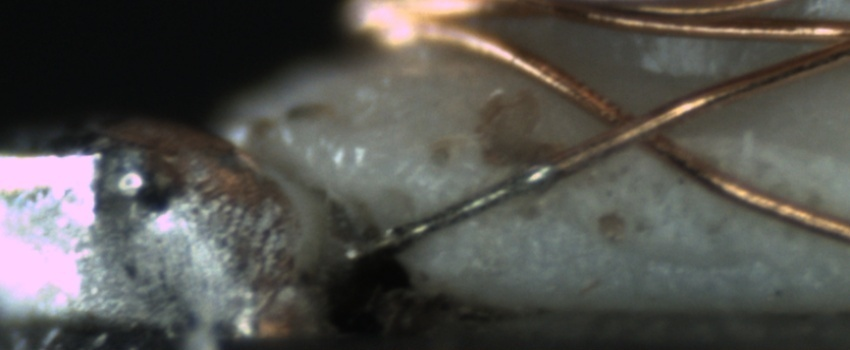CL: (588, 93, 690, 161)
DL: (422, 149, 561, 194)
TS: (333, 162, 557, 268)
TTCW: (345, 121, 638, 266)
